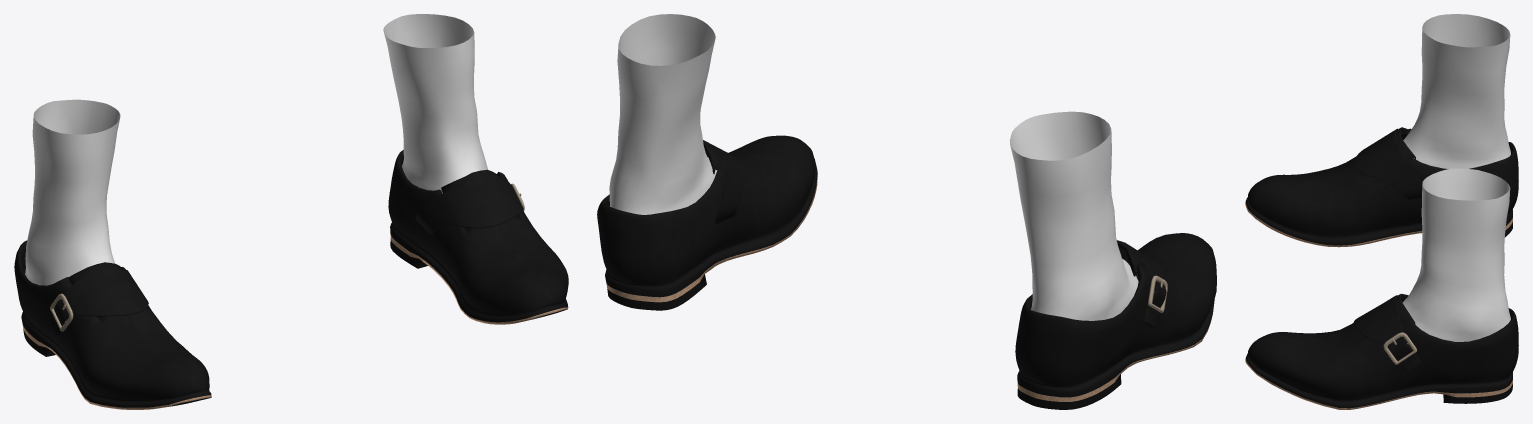
The model's file is mindfront-shoes-monk-strap-male.glb.
3 views of the same model, side by side, from view 1: azimuth 30°, elevation 25°; view 2: azimuth 150°, elevation 25°; view 3: azimuth 270°, elevation 25° (orthographic). The views are drawn at different scales.
Parts seen in each view (by area): view 1: Human.mindfront_shoes_monk_strap_male; view 2: Human.mindfront_shoes_monk_strap_male; view 3: Human.mindfront_shoes_monk_strap_male.
Part boxes in pixels (x1=…): Human.mindfront_shoes_monk_strap_male: x1=14, y1=14, x2=568, y2=409; Human.mindfront_shoes_monk_strap_male: x1=597, y1=14, x2=1216, y2=409; Human.mindfront_shoes_monk_strap_male: x1=1245, y1=14, x2=1518, y2=409.
Bounding box in the file's own units: 0.5392 × 0.2492 × 0.3025.
Materials: 1 (1 with a texture image).
